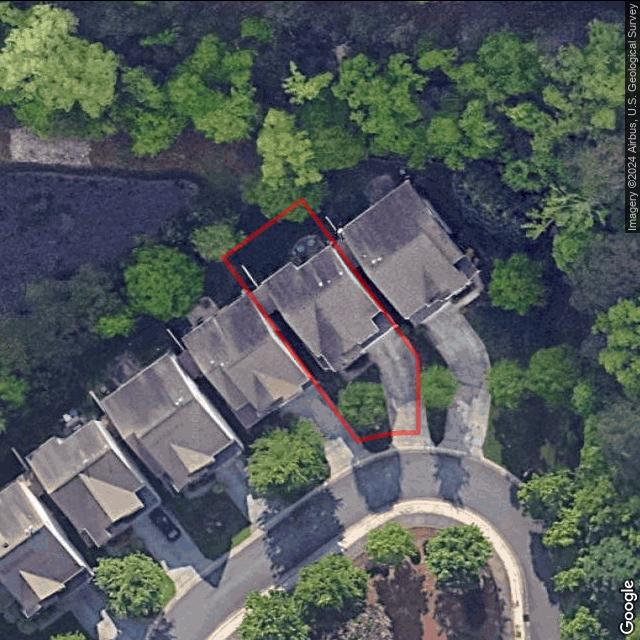Driveway: (366, 327, 418, 432)
Extra-Driveway: (391, 431, 419, 447)
Extra-Lawn: (359, 434, 392, 453)
House: (252, 244, 381, 372)
Lawn: (224, 199, 419, 439)
Other: (290, 233, 326, 268)
Sidewalk: (335, 356, 374, 382)
